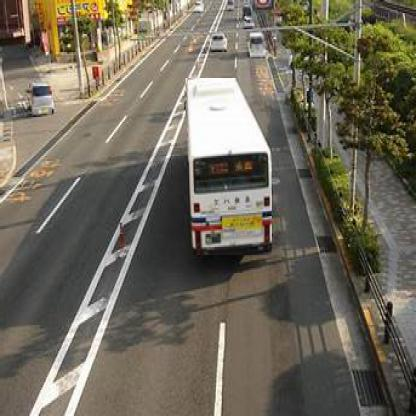bus: (185, 79, 273, 258)
car: (31, 87, 53, 118), (250, 34, 269, 61), (210, 34, 228, 55), (246, 16, 256, 26), (195, 4, 205, 14)
